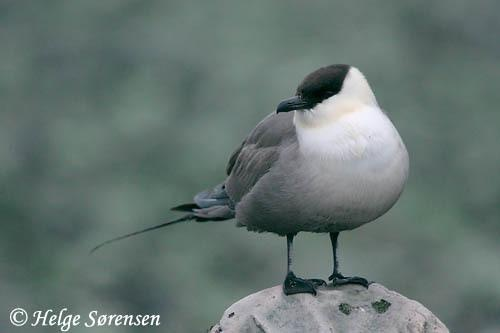bird: (89, 63, 409, 295)
